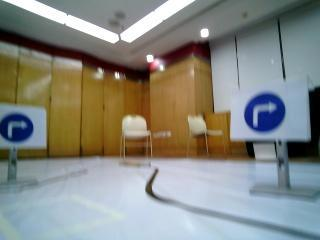right: (232, 88, 304, 135), (0, 106, 45, 144)
